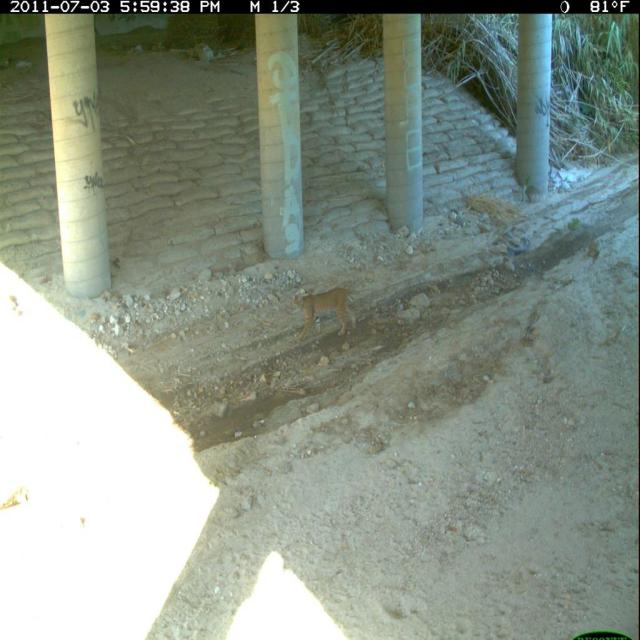bobcat: (290, 282, 360, 354)
